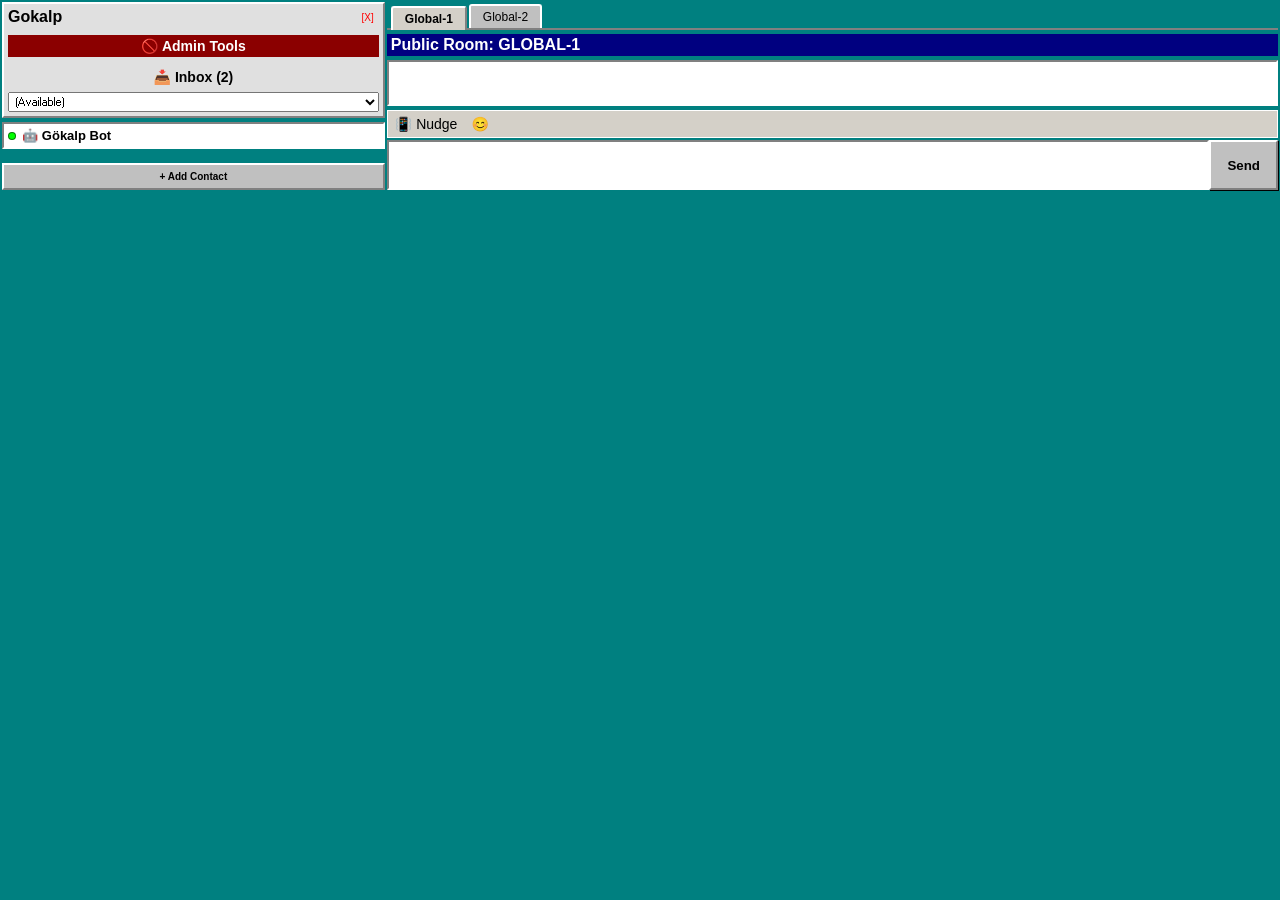
Test case: admin inbox › shows the unread count on the button and lists messages newest first
The width and height of the screenshot is (1280, 900).
Click the button "📥 Inbox (2)": (193, 77) [8,66,379,88]
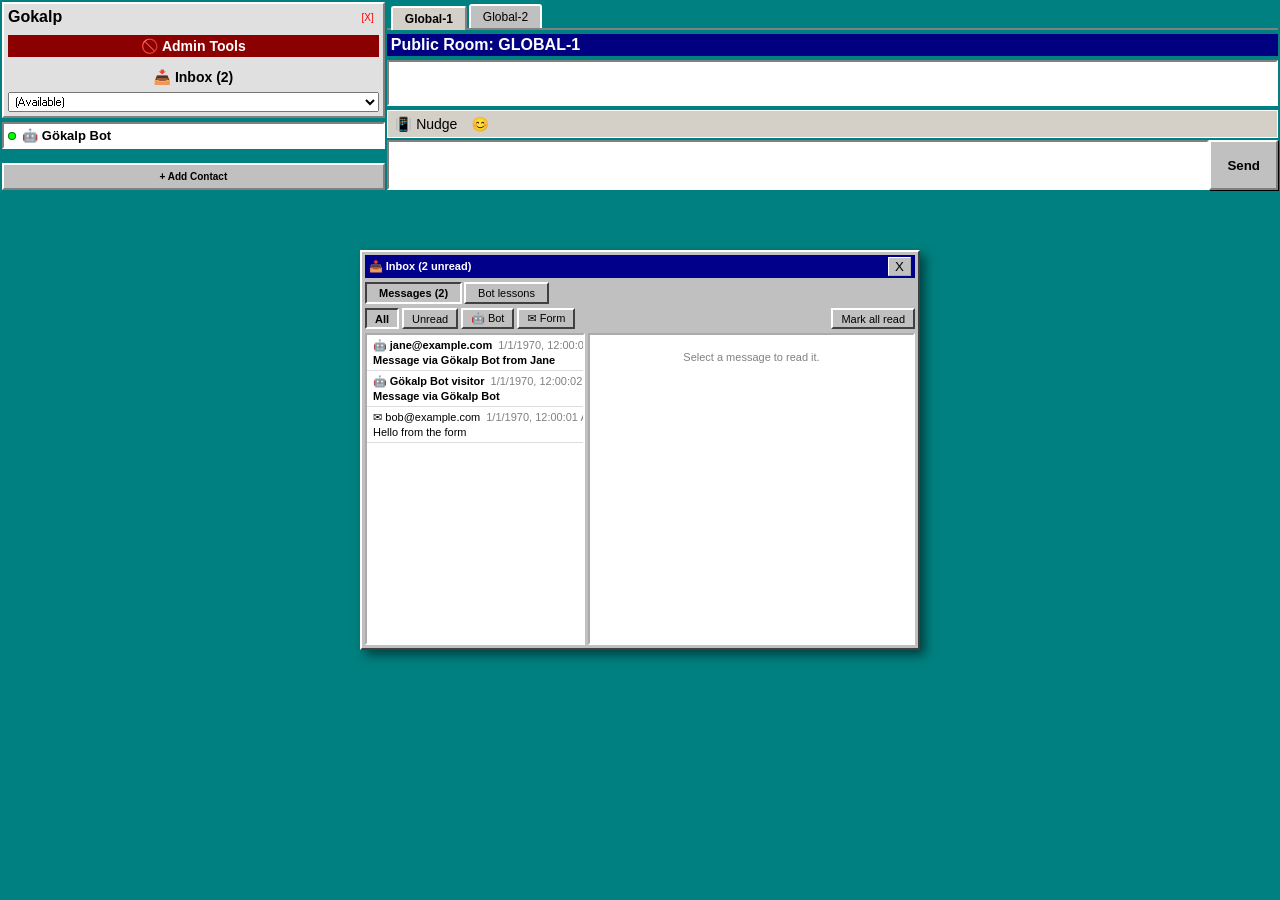
Check: the number of list items with class "unread" is 2, box [367,335,583,371]; [367,371,583,407]
